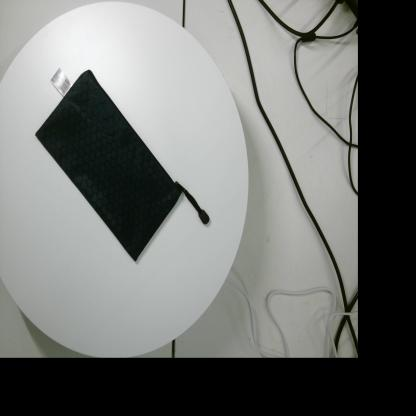Stationery: (35, 67, 210, 262)
